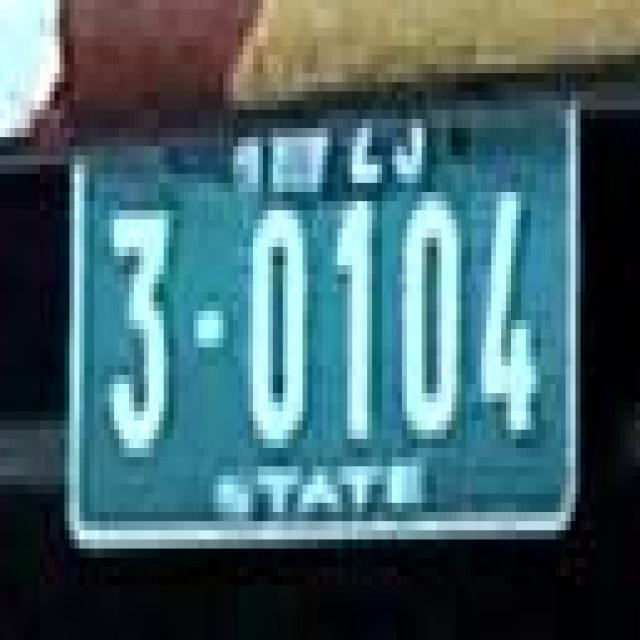State: (238, 137, 326, 207)
